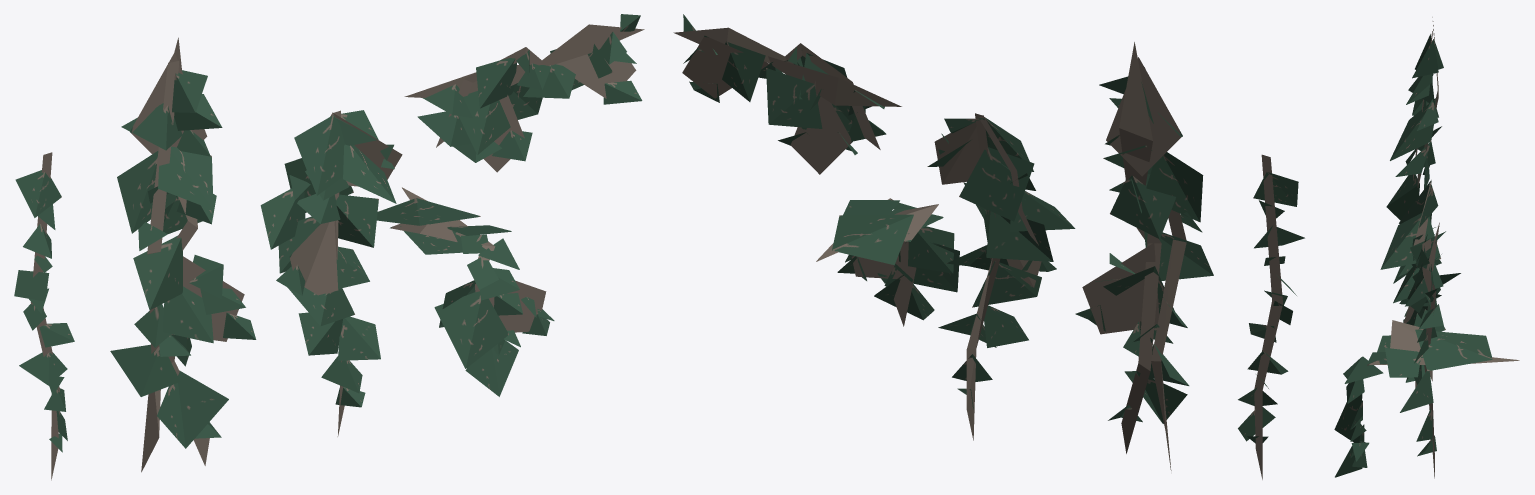
File: Medieval_Foliage_IvyVines.FBX
The picture shows the model from 3 angles, left to right: view 1: azimuth 30°, elevation 25°; view 2: azimuth 150°, elevation 25°; view 3: azimuth 270°, elevation 25°; orthographic projection. The views are drawn at different scales.
Parts seen in each view (by area): view 1: Medieval_Foliage_IvyVines_LongVert, Medieval_Foliage_IvyVines_ShortVert, Medieval_Foliage_IvyVines_ShortHoz, Medieval_Foliage_IvyVines_EdgeOver, Medieval_Foliage_IvyVines_Single; view 2: Medieval_Foliage_IvyVines_LongVert, Medieval_Foliage_IvyVines_ShortVert, Medieval_Foliage_IvyVines_ShortHoz, Medieval_Foliage_IvyVines_EdgeOver, Medieval_Foliage_IvyVines_Single; view 3: Medieval_Foliage_IvyVines_EdgeOver, Medieval_Foliage_IvyVines_LongVert, Medieval_Foliage_IvyVines_ShortVert, Medieval_Foliage_IvyVines_ShortHoz, Medieval_Foliage_IvyVines_Single.
Boxes of the visible parts, x1,y1,x2,y2 form: Medieval_Foliage_IvyVines_LongVert: (110, 37, 256, 472); Medieval_Foliage_IvyVines_ShortVert: (260, 110, 402, 436); Medieval_Foliage_IvyVines_ShortHoz: (404, 14, 644, 172); Medieval_Foliage_IvyVines_EdgeOver: (376, 187, 554, 396); Medieval_Foliage_IvyVines_Single: (14, 152, 74, 480); Medieval_Foliage_IvyVines_LongVert: (1075, 42, 1213, 470); Medieval_Foliage_IvyVines_ShortVert: (927, 113, 1075, 440); Medieval_Foliage_IvyVines_ShortHoz: (673, 14, 901, 174); Medieval_Foliage_IvyVines_EdgeOver: (816, 198, 959, 326); Medieval_Foliage_IvyVines_Single: (1238, 154, 1304, 479); Medieval_Foliage_IvyVines_EdgeOver: (1334, 320, 1519, 477); Medieval_Foliage_IvyVines_LongVert: (1386, 17, 1460, 387); Medieval_Foliage_IvyVines_ShortVert: (1380, 180, 1445, 478); Medieval_Foliage_IvyVines_ShortHoz: (1405, 222, 1445, 363); Medieval_Foliage_IvyVines_Single: (1412, 34, 1441, 293).
Size of the model in its own units: 3.81 by 2.54 by 1.08.
